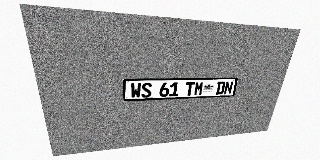plate: (123, 77, 238, 101)
